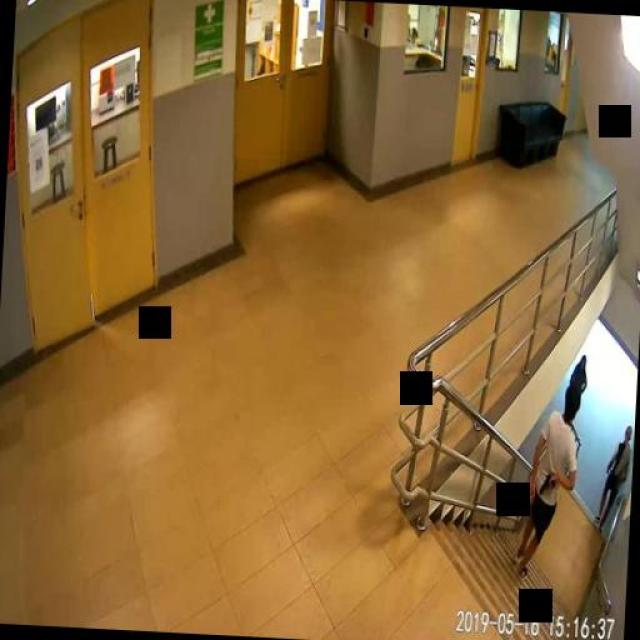gun: (537, 471, 555, 494)
